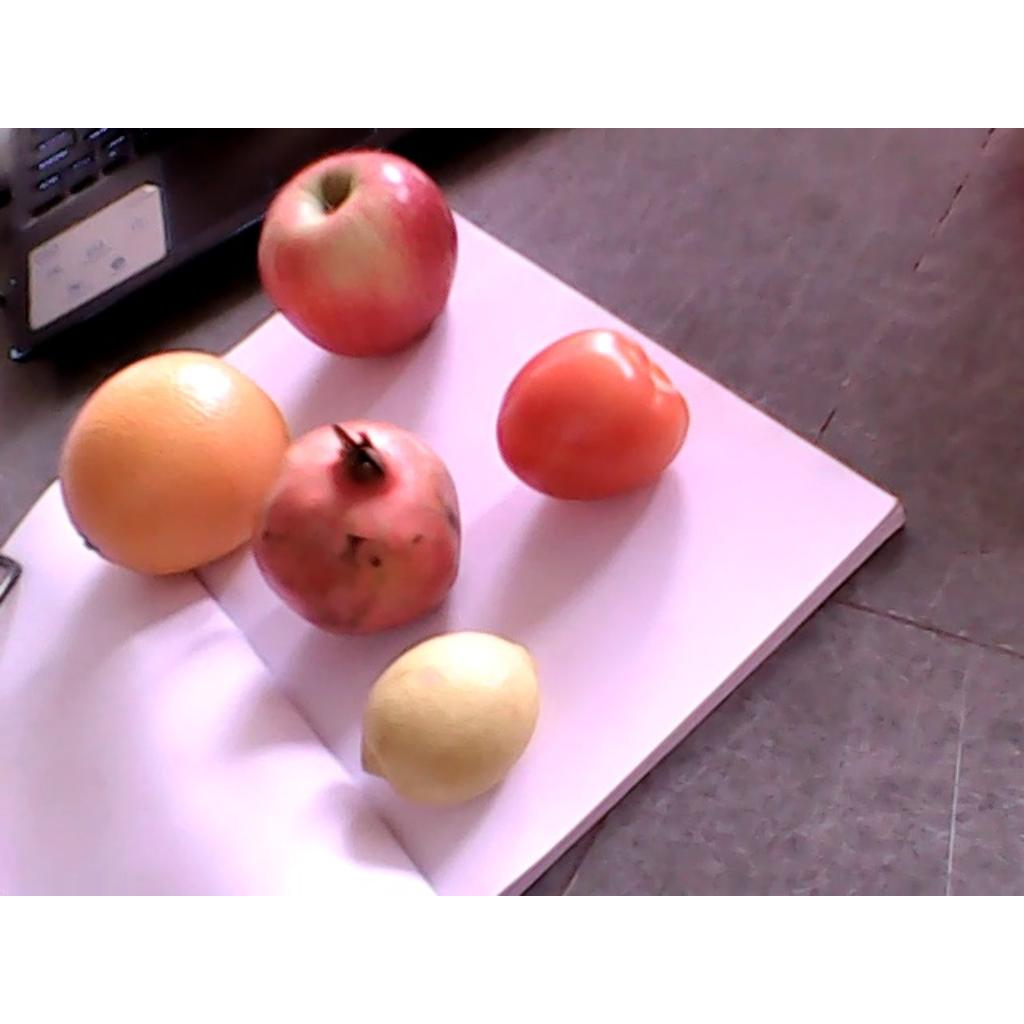apple: (254, 153, 457, 363)
lemon: (360, 630, 539, 806)
orange: (54, 353, 290, 575)
pomegranate: (252, 421, 461, 638)
tomato: (495, 325, 687, 501)
